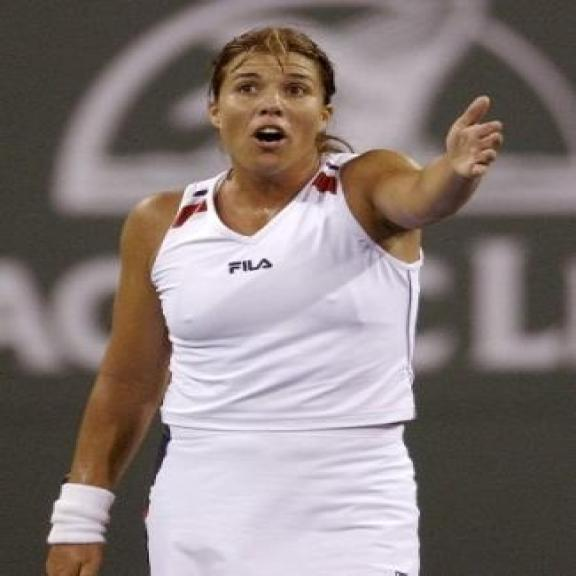face: (197, 35, 345, 174)
